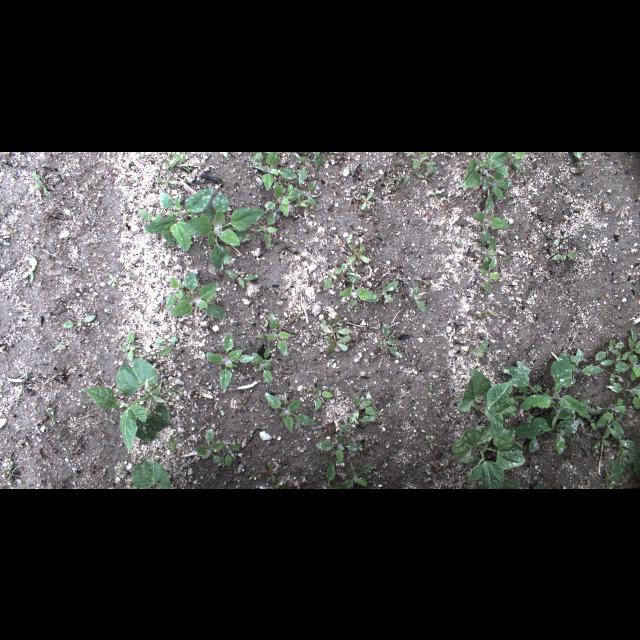crop: (80, 354, 178, 456), (457, 366, 517, 449), (450, 430, 528, 488), (132, 459, 172, 487)
weed: (133, 185, 270, 271), (501, 352, 611, 452), (458, 151, 528, 299), (580, 327, 638, 433), (165, 264, 231, 320), (588, 422, 638, 486), (312, 386, 378, 434), (204, 326, 256, 386), (262, 391, 320, 432), (195, 427, 247, 468), (333, 266, 382, 308), (252, 309, 294, 356), (315, 306, 351, 358), (258, 176, 298, 218), (250, 152, 298, 186), (314, 438, 368, 467), (322, 460, 372, 488), (292, 152, 326, 182), (374, 314, 398, 356), (220, 265, 264, 287), (248, 348, 274, 384), (257, 208, 279, 248), (345, 237, 373, 266), (401, 151, 437, 173), (58, 314, 98, 332), (550, 246, 582, 268), (373, 278, 402, 300), (32, 170, 54, 198), (162, 152, 190, 174), (20, 254, 38, 282), (121, 331, 137, 362), (412, 170, 436, 186), (264, 462, 280, 486), (153, 175, 179, 188), (359, 188, 373, 210), (288, 309, 302, 323)
